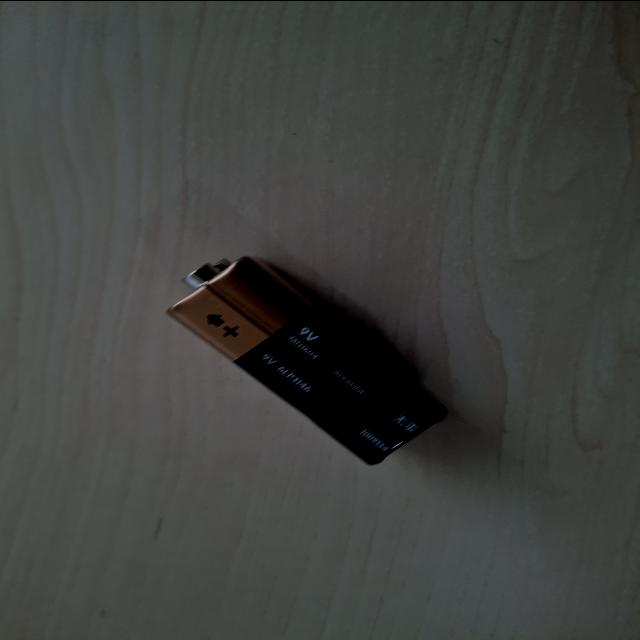9V: (337, 302, 616, 518)
